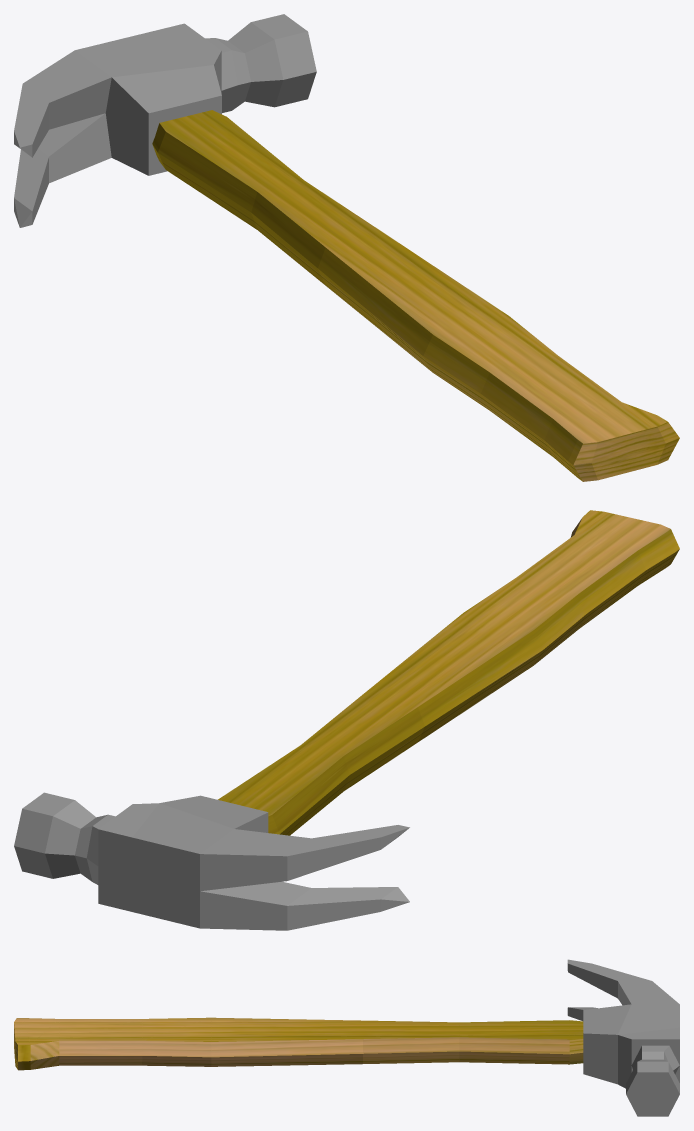
The model's file is Hammer.fbx.
3 views of the same model, one above another, from view 1: azimuth 30°, elevation 25°; view 2: azimuth 150°, elevation 25°; view 3: azimuth 270°, elevation 25° (orthographic). The views are drawn at different scales.
Parts seen in each view (by area): view 1: Object_14.001; view 2: Object_14.001; view 3: Object_14.001.
Boxes of the visible parts, x1=… form: Object_14.001: x1=14, y1=14, x2=679, y2=481; Object_14.001: x1=14, y1=510, x2=679, y2=930; Object_14.001: x1=14, y1=959, x2=679, y2=1116.
Bounding box in the file's own units: 131 × 29.4 × 338.
